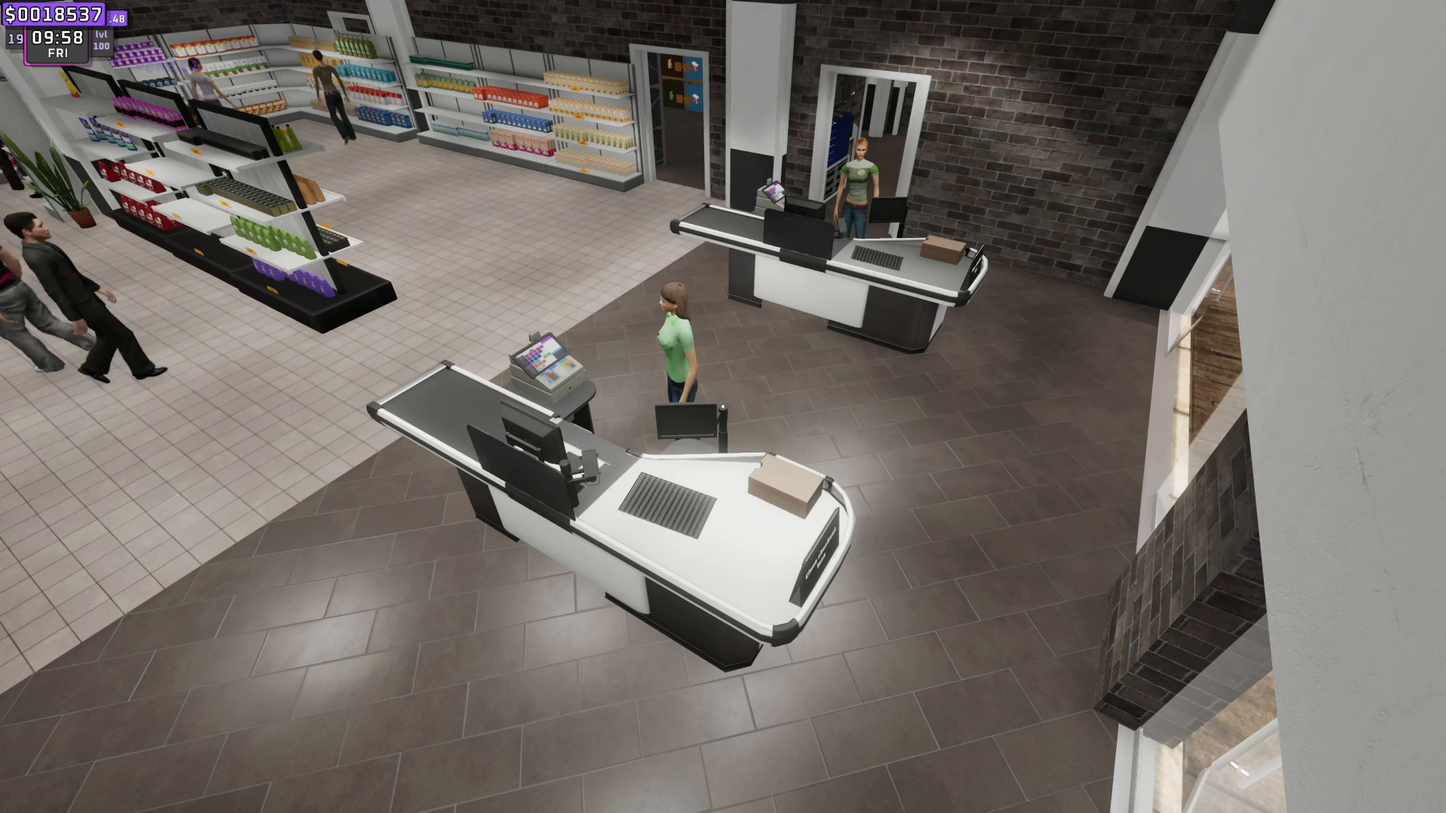Employee: (653, 280, 705, 398), (842, 142, 885, 238)
